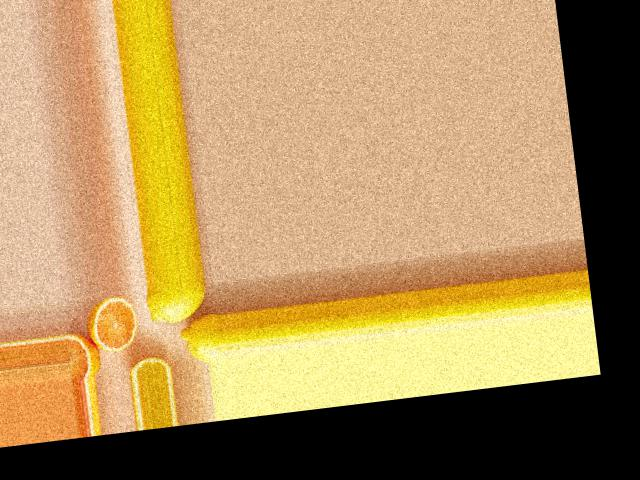lemon: (174, 311, 223, 364)
